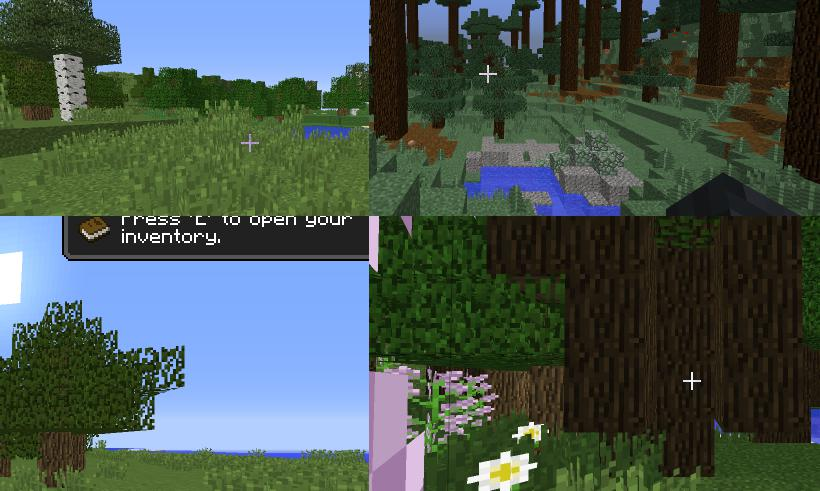minecraft-blocks: (483, 217, 653, 434), (720, 217, 805, 442), (659, 252, 713, 477), (784, 1, 820, 177), (372, 1, 406, 140), (695, 11, 741, 85), (523, 368, 564, 441), (54, 55, 88, 123), (619, 1, 646, 76), (481, 371, 520, 420), (38, 433, 72, 489), (559, 1, 577, 96), (71, 435, 87, 475), (448, 5, 460, 52), (23, 107, 51, 122), (1, 457, 12, 478)
